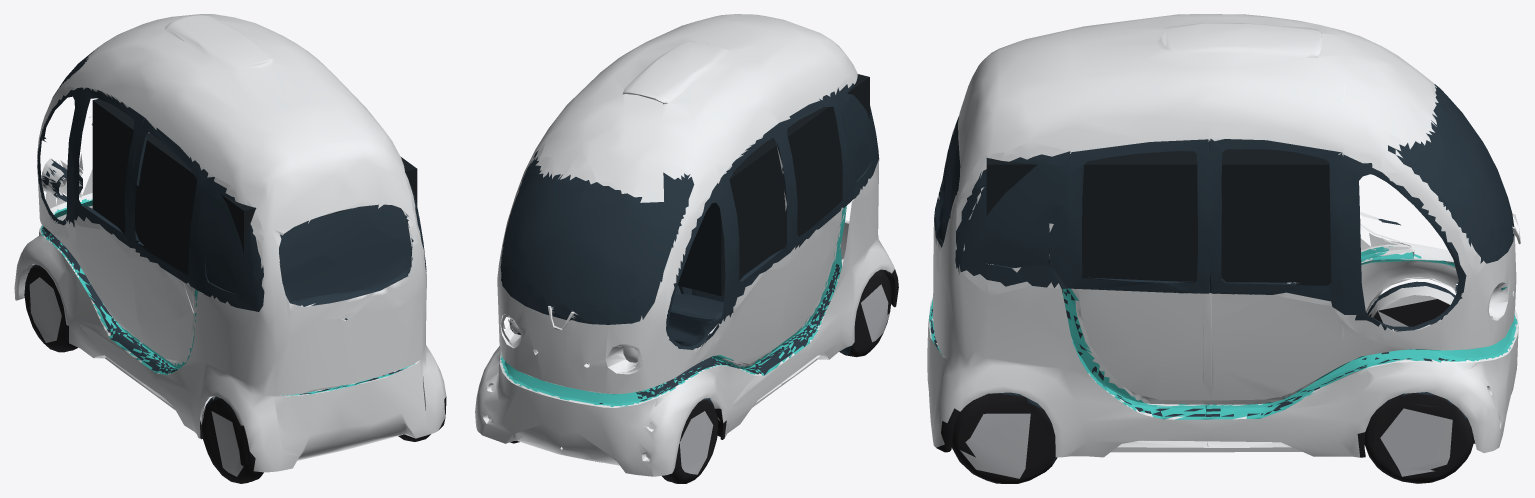
Rendered from teleopVehRobotaxi.f1726137.glb.
The picture shows the model from 3 angles, left to right: view 1: azimuth 30°, elevation 25°; view 2: azimuth 150°, elevation 25°; view 3: azimuth 270°, elevation 25°; orthographic projection. The views are drawn at different scales.
Parts seen in each view (by area): view 1: output_unwrapped; view 2: output_unwrapped; view 3: output_unwrapped.
Boxes of the visible parts, <box> form: output_unwrapped: <box>14,14,446,483</box>; output_unwrapped: <box>475,14,898,483</box>; output_unwrapped: <box>927,14,1520,483</box>.
Size of the model in its own units: 0.8921 by 1.41 by 1.9.
